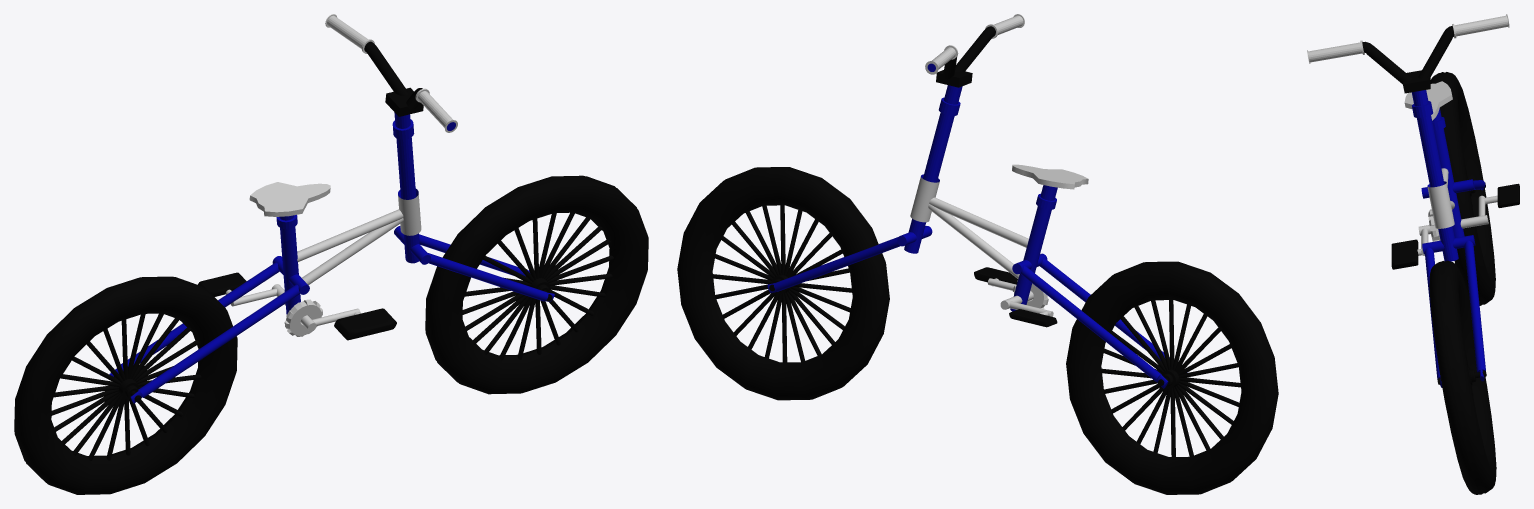
The model's file is Bicycle FBX.fbx.
The picture shows the model from 3 angles, left to right: view 1: azimuth 30°, elevation 25°; view 2: azimuth 150°, elevation 25°; view 3: azimuth 270°, elevation 25°; orthographic projection. The views are drawn at different scales.
Parts seen in each view (by area): view 1: pTorus4, pTorus3, pCylinder34, pCube1; view 2: pTorus4, pTorus3, pCylinder34; view 3: pCylinder34, pTorus3, pTorus4, pCube1, pCube2.
Part boxes in pixels (left/top/right/bottom): pTorus4: left=14, top=276, right=237, bottom=494; pTorus3: left=425, top=175, right=648, bottom=394; pCylinder34: left=109, top=14, right=554, bottom=403; pCube1: left=334, top=308, right=396, bottom=340; pTorus4: left=1066, top=261, right=1278, bottom=494; pTorus3: left=677, top=167, right=889, bottom=400; pCylinder34: left=767, top=14, right=1187, bottom=388; pCylinder34: left=1307, top=14, right=1509, bottom=387; pTorus3: left=1429, top=260, right=1496, bottom=494; pTorus4: left=1430, top=72, right=1495, bottom=305; pCube1: left=1391, top=239, right=1418, bottom=269; pCube2: left=1497, top=183, right=1519, bottom=207.
Size of the model in its own units: 40.2 by 25 by 12.49.
